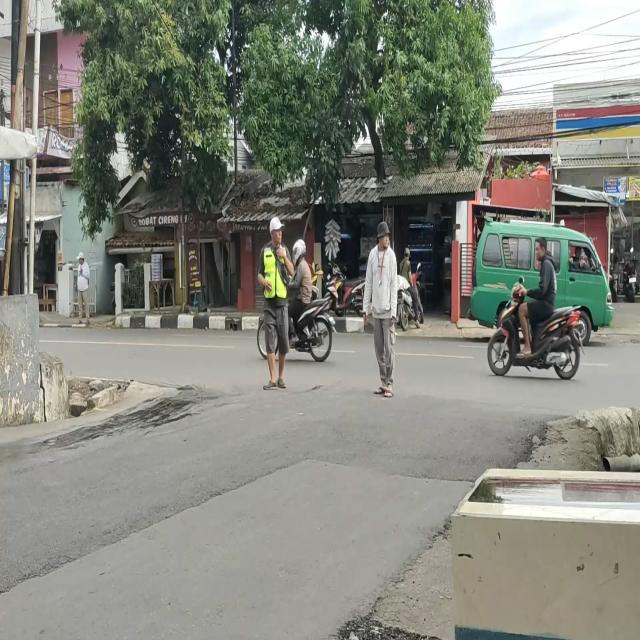helmet: (291, 238, 308, 265)
no-helmet: (533, 234, 550, 262)
